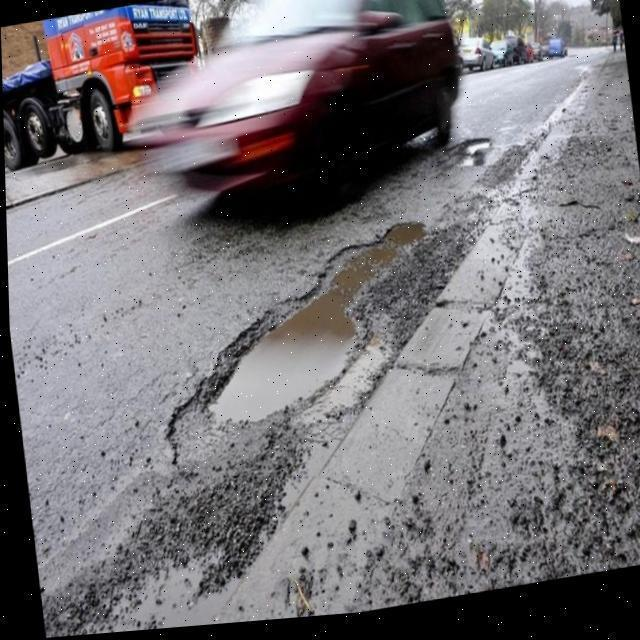Pothole: (202, 219, 432, 430)
